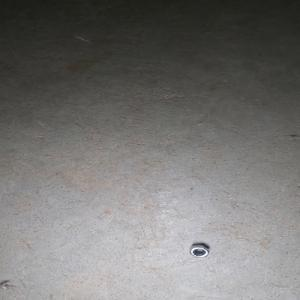Nut: (189, 244, 209, 258)
